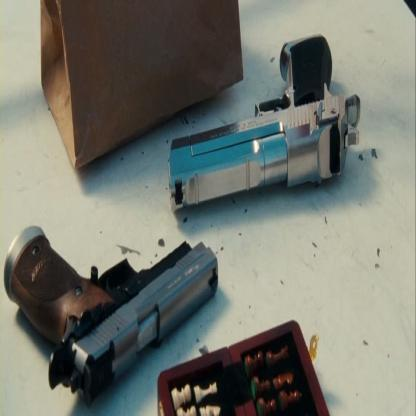gun: (1, 169, 222, 395), (161, 73, 354, 205)
